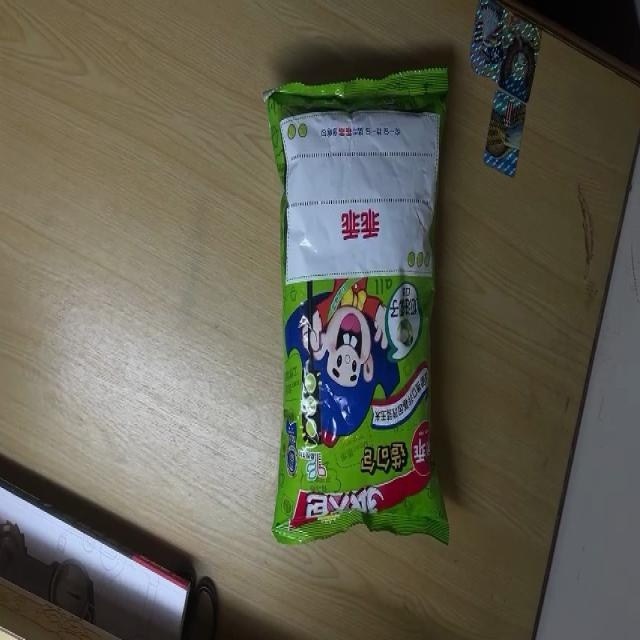Good-Luck: (262, 71, 451, 548)
